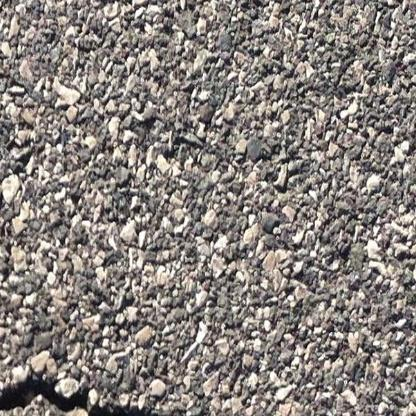Cracks: (0, 377, 192, 416)
